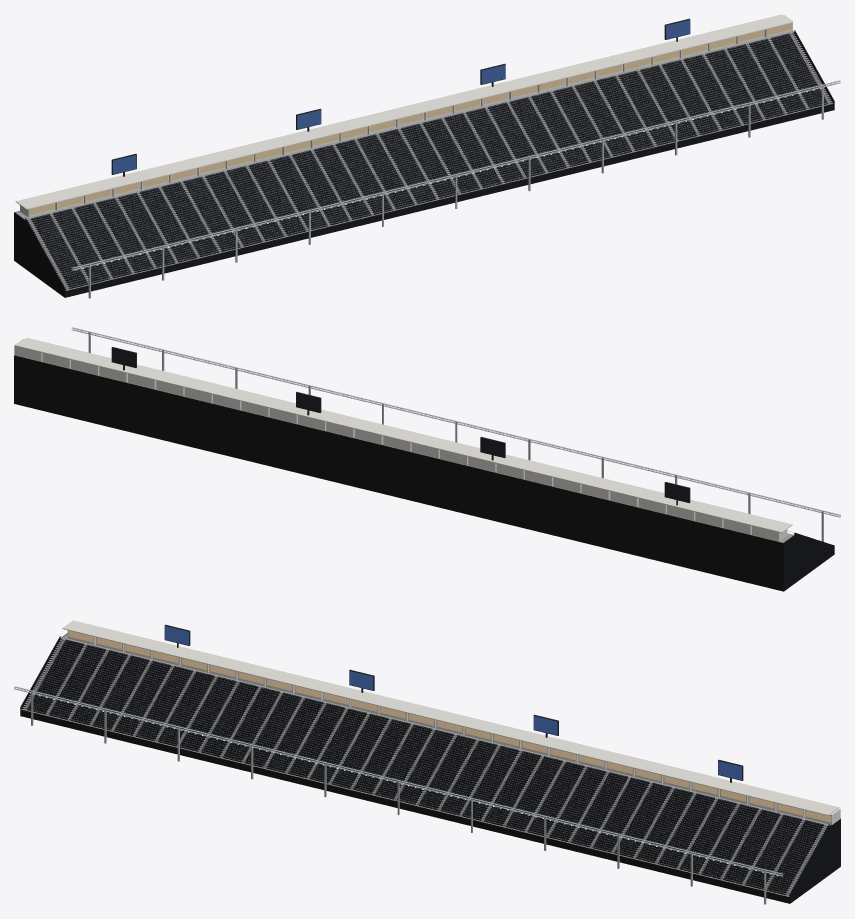
The model's file is lv_stand_c.glb.
3 views of the same model, one above another, from view 1: azimuth 30°, elevation 25°; view 2: azimuth 150°, elevation 25°; view 3: azimuth 330°, elevation 25° (orthographic).
Visible parts, largest first — view 1: las-vegas-main-grandstand; view 2: las-vegas-main-grandstand; view 3: las-vegas-main-grandstand.
Part boxes in pixels (x1=…): las-vegas-main-grandstand: x1=14, y1=14, x2=840, y2=298; las-vegas-main-grandstand: x1=14, y1=327, x2=840, y2=591; las-vegas-main-grandstand: x1=14, y1=620, x2=840, y2=904.
Bounding box in the file's own units: 326 × 31.82 × 42.45.
